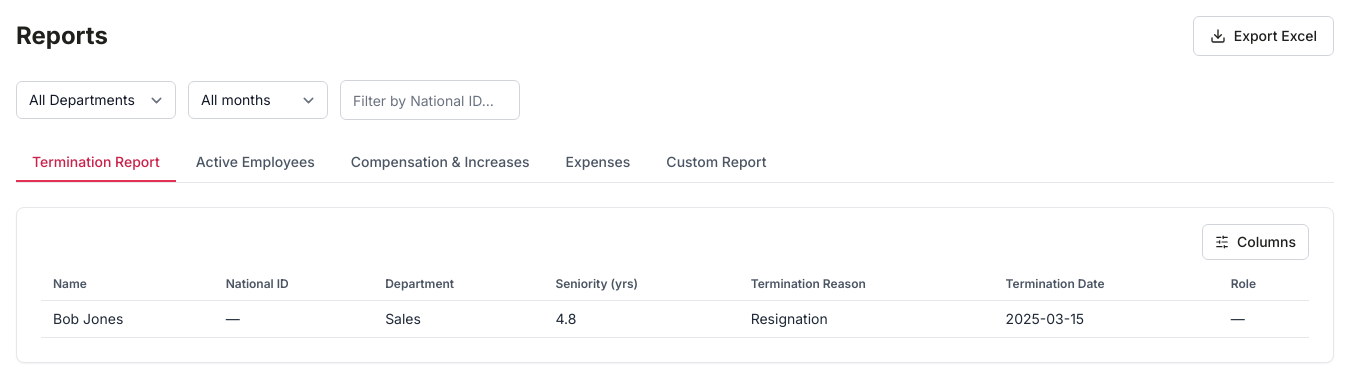
Test case: ReportsPage › C-3: clicking Compensation tab shows salary report
Click the tab "Compensation & Increases" at [440, 163], box [335,144,546,182]
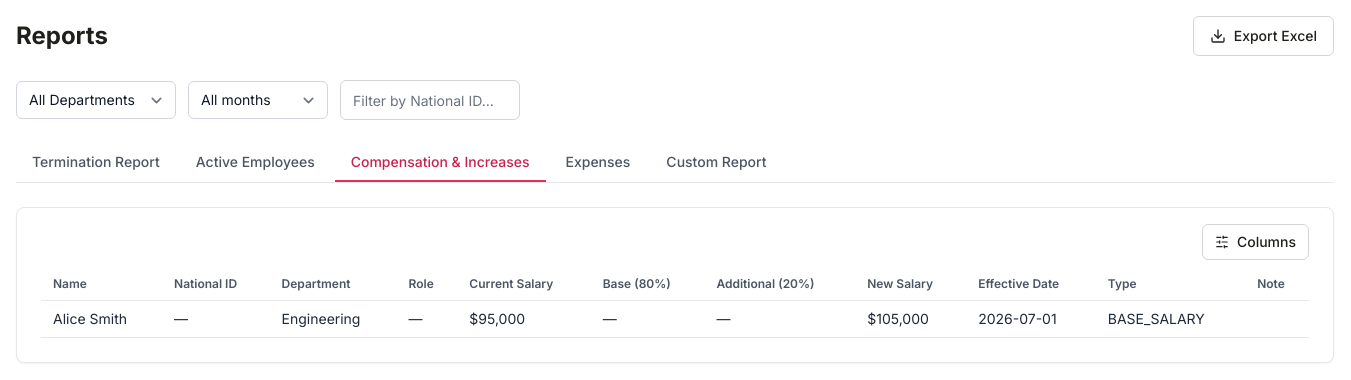
Now the text "Alice Smith" is shown, box [41,300,162,338]
Now the text "$95,000" is shown, box [457,300,591,338]
